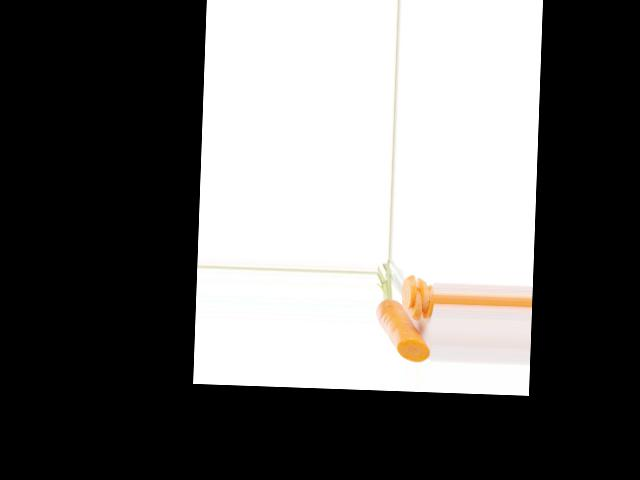carrot: (374, 298, 428, 358)
